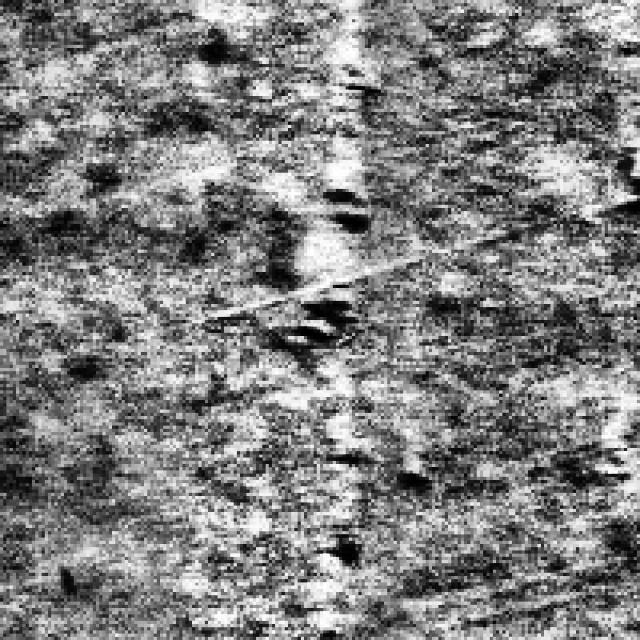Crazing: (266, 179, 420, 586)
